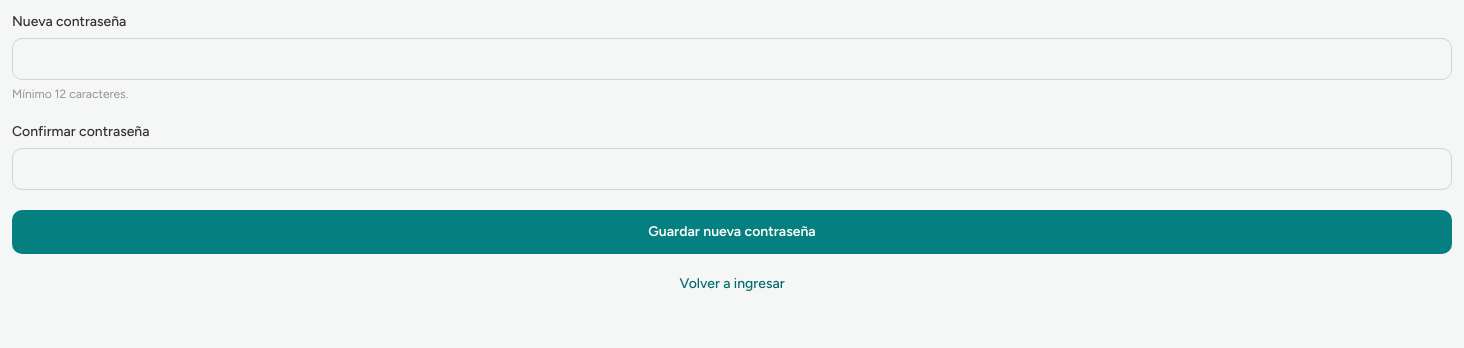
NuevaPasswordForm › muestra el error que devuelve la acción (token vencido/usado)
Step 1. Type "password123456" into the password field labelled "Nueva contraseña Mínimo 12 caracteres." → {"x": 732, "y": 59}, box [12,38,1452,80]
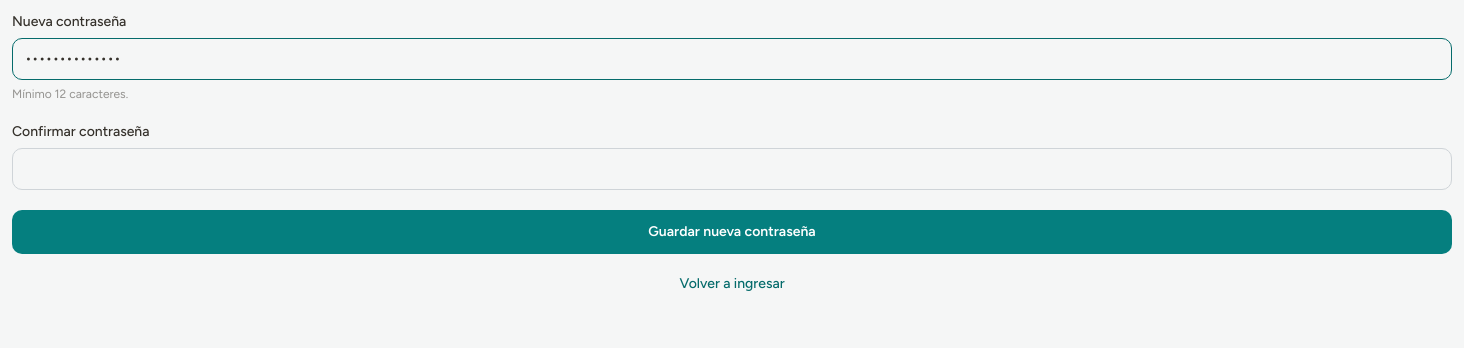
Step 2. Type "password123456" into the password field labelled "Confirmar contraseña" → {"x": 732, "y": 169}, box [12,148,1452,190]
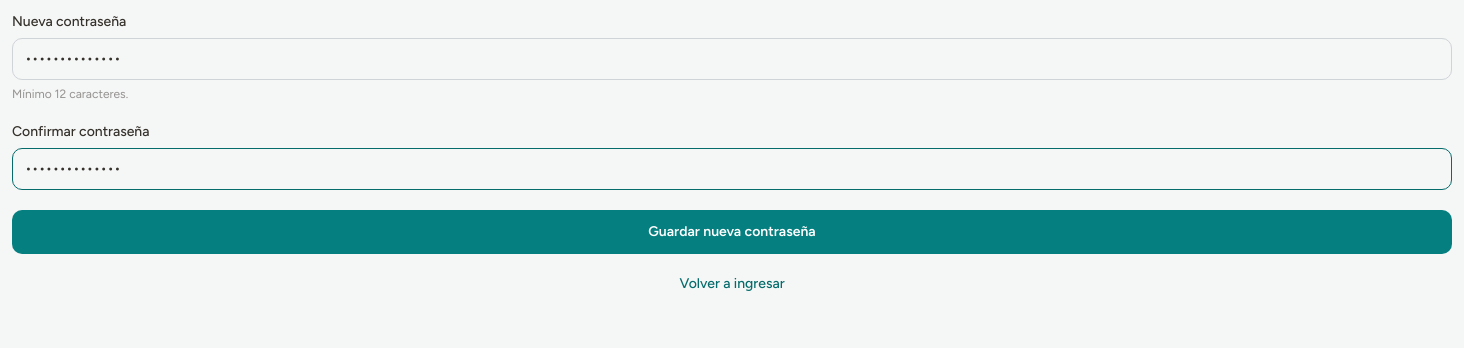
Step 3. Click the button "Guardar nueva contraseña" → {"x": 732, "y": 232}, box [12,210,1452,254]
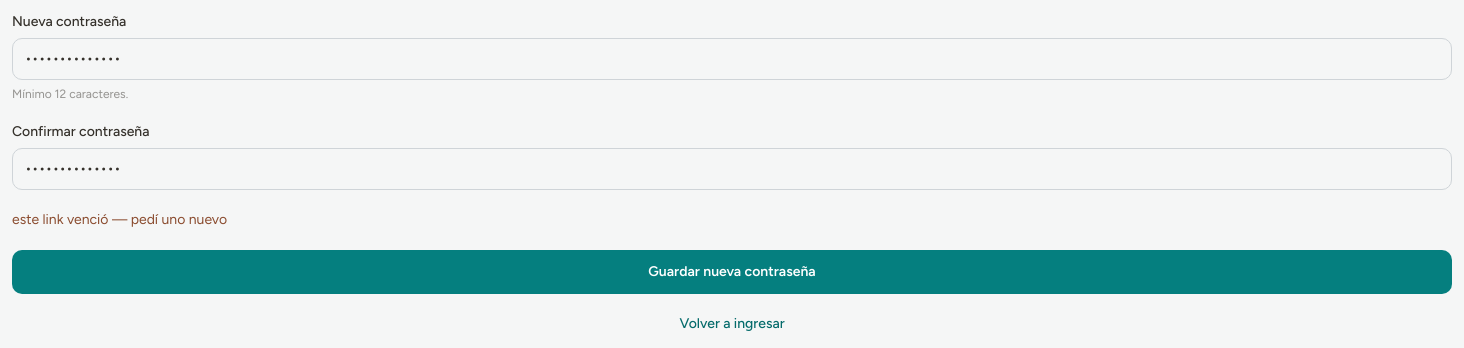
expect the message shows "venció": met, box [12,211,227,228]
